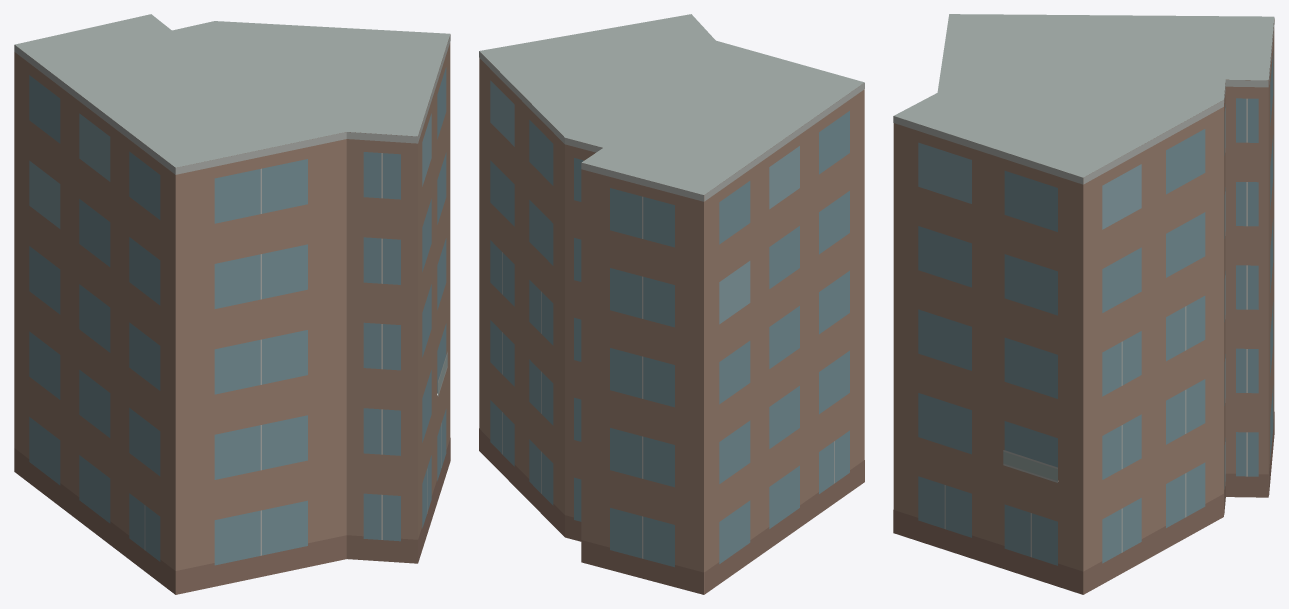
Rendered from survey-upis-32910377.glb.
3 renders of one model, left to right at view 1: azimuth 30°, elevation 25°; view 2: azimuth 150°, elevation 25°; view 3: azimuth 270°, elevation 25°, orthographic. The views are drawn at different scales.
Parts seen in each view (by area): view 1: survey-upis-32910377.tmp; view 2: survey-upis-32910377.tmp; view 3: survey-upis-32910377.tmp.
Part boxes in pixels (bbox=[...]): survey-upis-32910377.tmp: bbox=[14, 14, 450, 594]; survey-upis-32910377.tmp: bbox=[479, 14, 864, 594]; survey-upis-32910377.tmp: bbox=[893, 14, 1274, 594].
Size of the model in its own units: 12.3 by 14.6 by 12.09.
